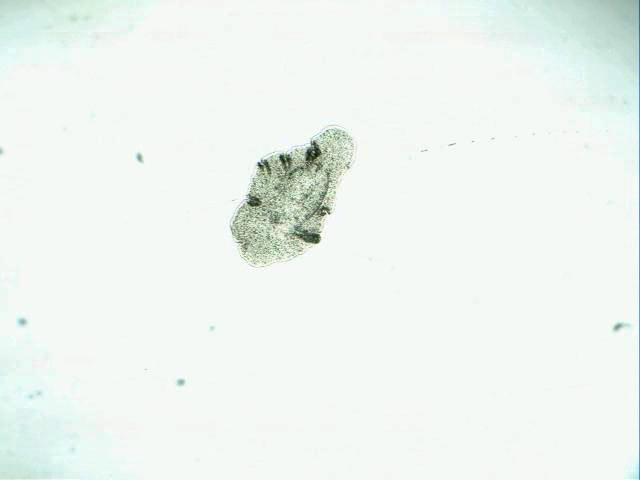Placozoan: (229, 125, 357, 269)
